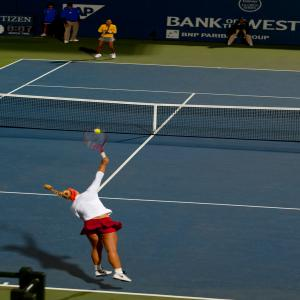TennisBall: (95, 130, 101, 134)
